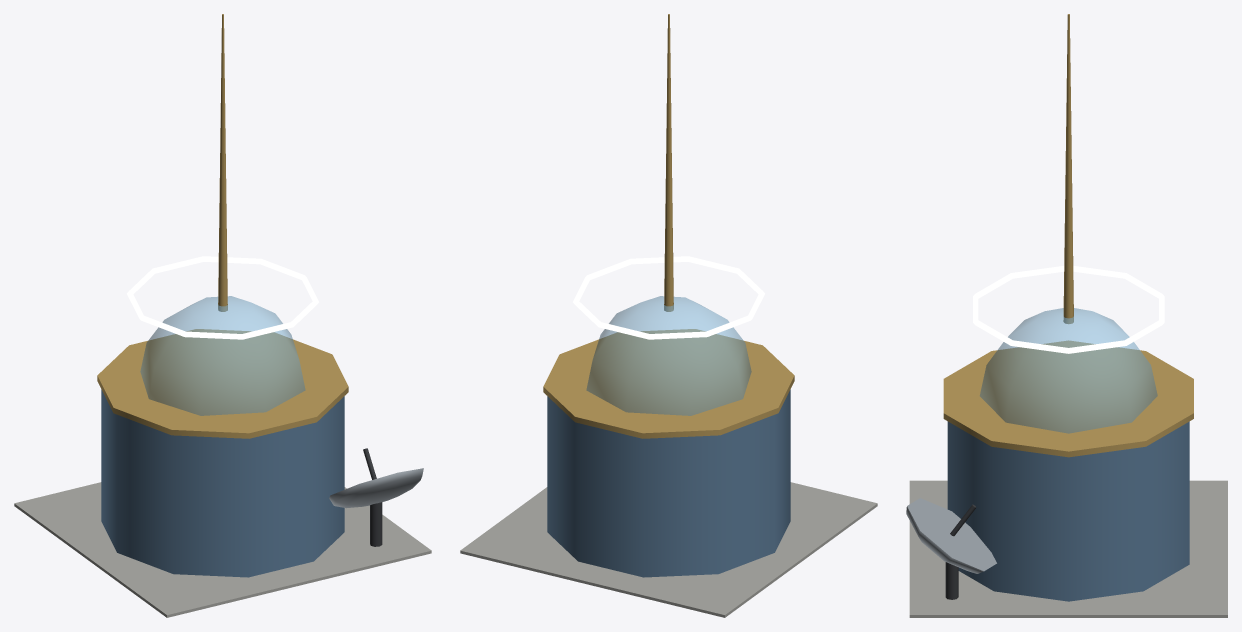
Rendered from bld_special_research_center_a10_lod1.glb.
3 renders of one model, left to right at view 1: azimuth 30°, elevation 25°; view 2: azimuth 150°, elevation 25°; view 3: azimuth 270°, elevation 25°, orthographic. The views are drawn at different scales.
Visible parts, largest first — view 1: body, antenna; view 2: body; view 3: body, antenna.
Boxes of the visible parts, x1,y1,x2,y2 form: body: (14,14,431,617); antenna: (329,448,423,546); body: (460,14,877,617); body: (909,14,1227,617); antenna: (906,498,996,599).
Size of the model in its own units: 15.6 by 27.9 by 15.17.
